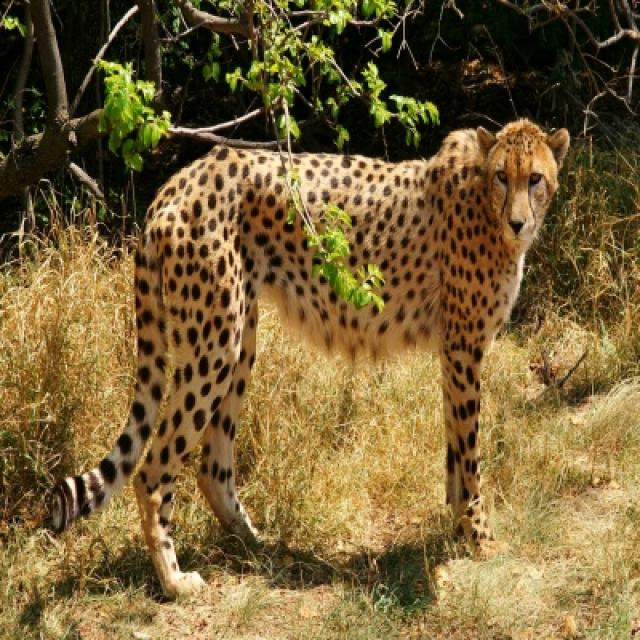Cheetah: (48, 120, 571, 602)
